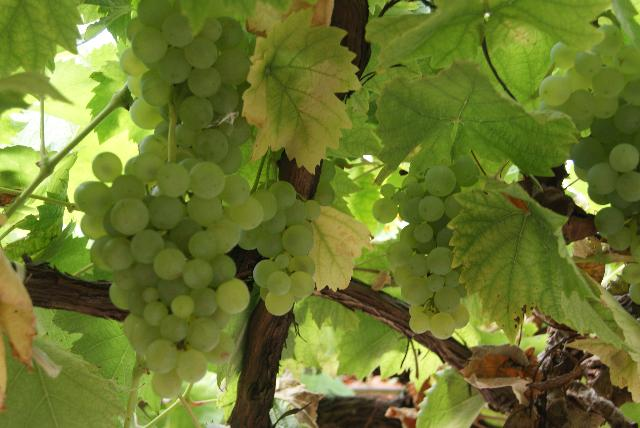grapes: (75, 142, 254, 399), (540, 24, 640, 261), (120, 0, 251, 174), (372, 156, 479, 339), (254, 181, 321, 316)
